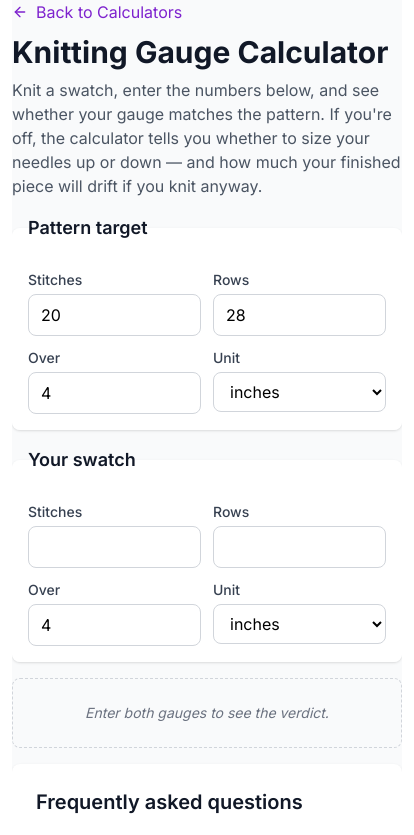
Scenario: GaugeCalculator — Sprint 1 Save to Rowly CTA › shows the Save-to-Rowly CTA for authenticated users once a result computes
The width and height of the screenshot is (414, 835).
expect the button "save this gauge to a project" is not shown: met
In the number field labelled "Stitches" below "Your swatch": point(114, 547) [28,526,201,568], type "20"
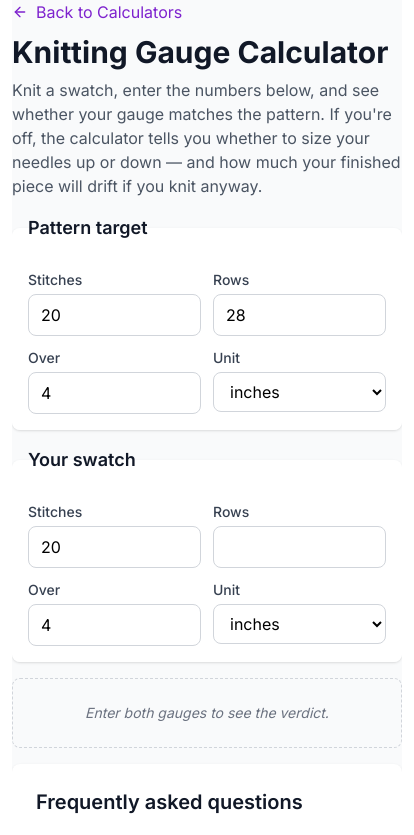
In the number field labelled "Rows" below "Your swatch": point(300, 547) [213,526,386,568], type "28"
(page scrolled)
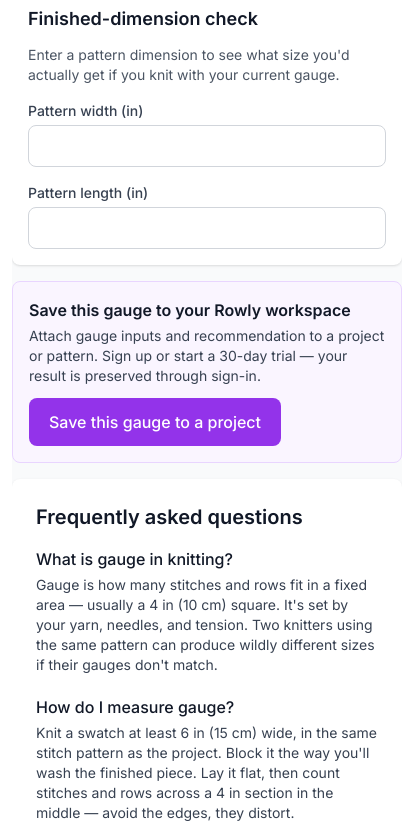
expect the button "Save this gauge to a project" is shown: met, box [29,398,281,446]
